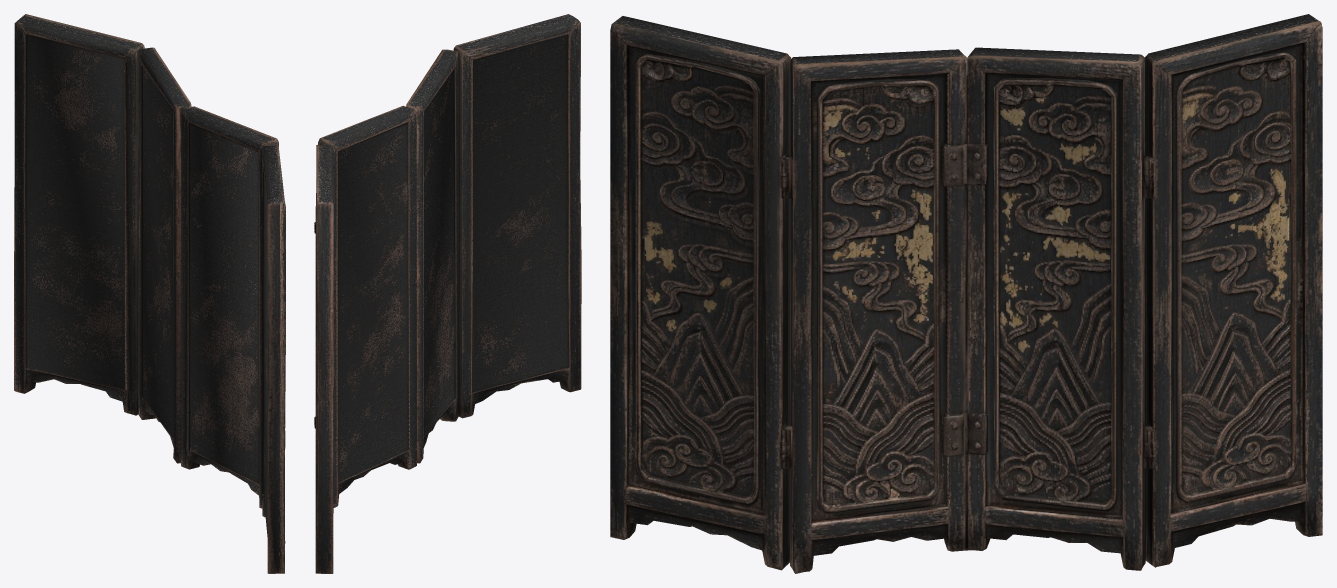
The model's file is tripo_convert_6460a165-18d6-448c-a1cd-ed4a375a24c5.fbx.
The picture shows the model from 3 angles, left to right: view 1: azimuth 30°, elevation 25°; view 2: azimuth 150°, elevation 25°; view 3: azimuth 270°, elevation 25°; orthographic projection. The views are drawn at different scales.
Visible parts, largest first — view 1: tripo_node_6460a165; view 2: tripo_node_6460a165; view 3: tripo_node_6460a165.
Boxes of the visible parts, <box> form: tripo_node_6460a165: <box>14,14,285,573</box>; tripo_node_6460a165: <box>314,14,581,573</box>; tripo_node_6460a165: <box>610,14,1322,573</box>.
Bounding box in the file's own units: 0.1738 × 0.7949 × 0.998.
1 material, 1 textured.
